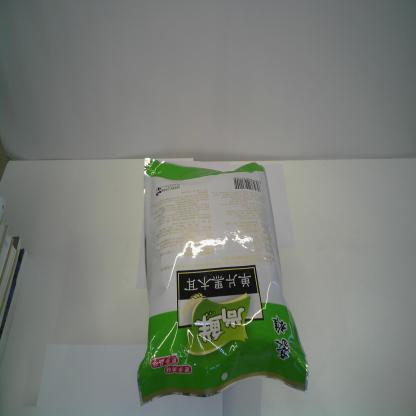Dried Food: (134, 155, 310, 407)
